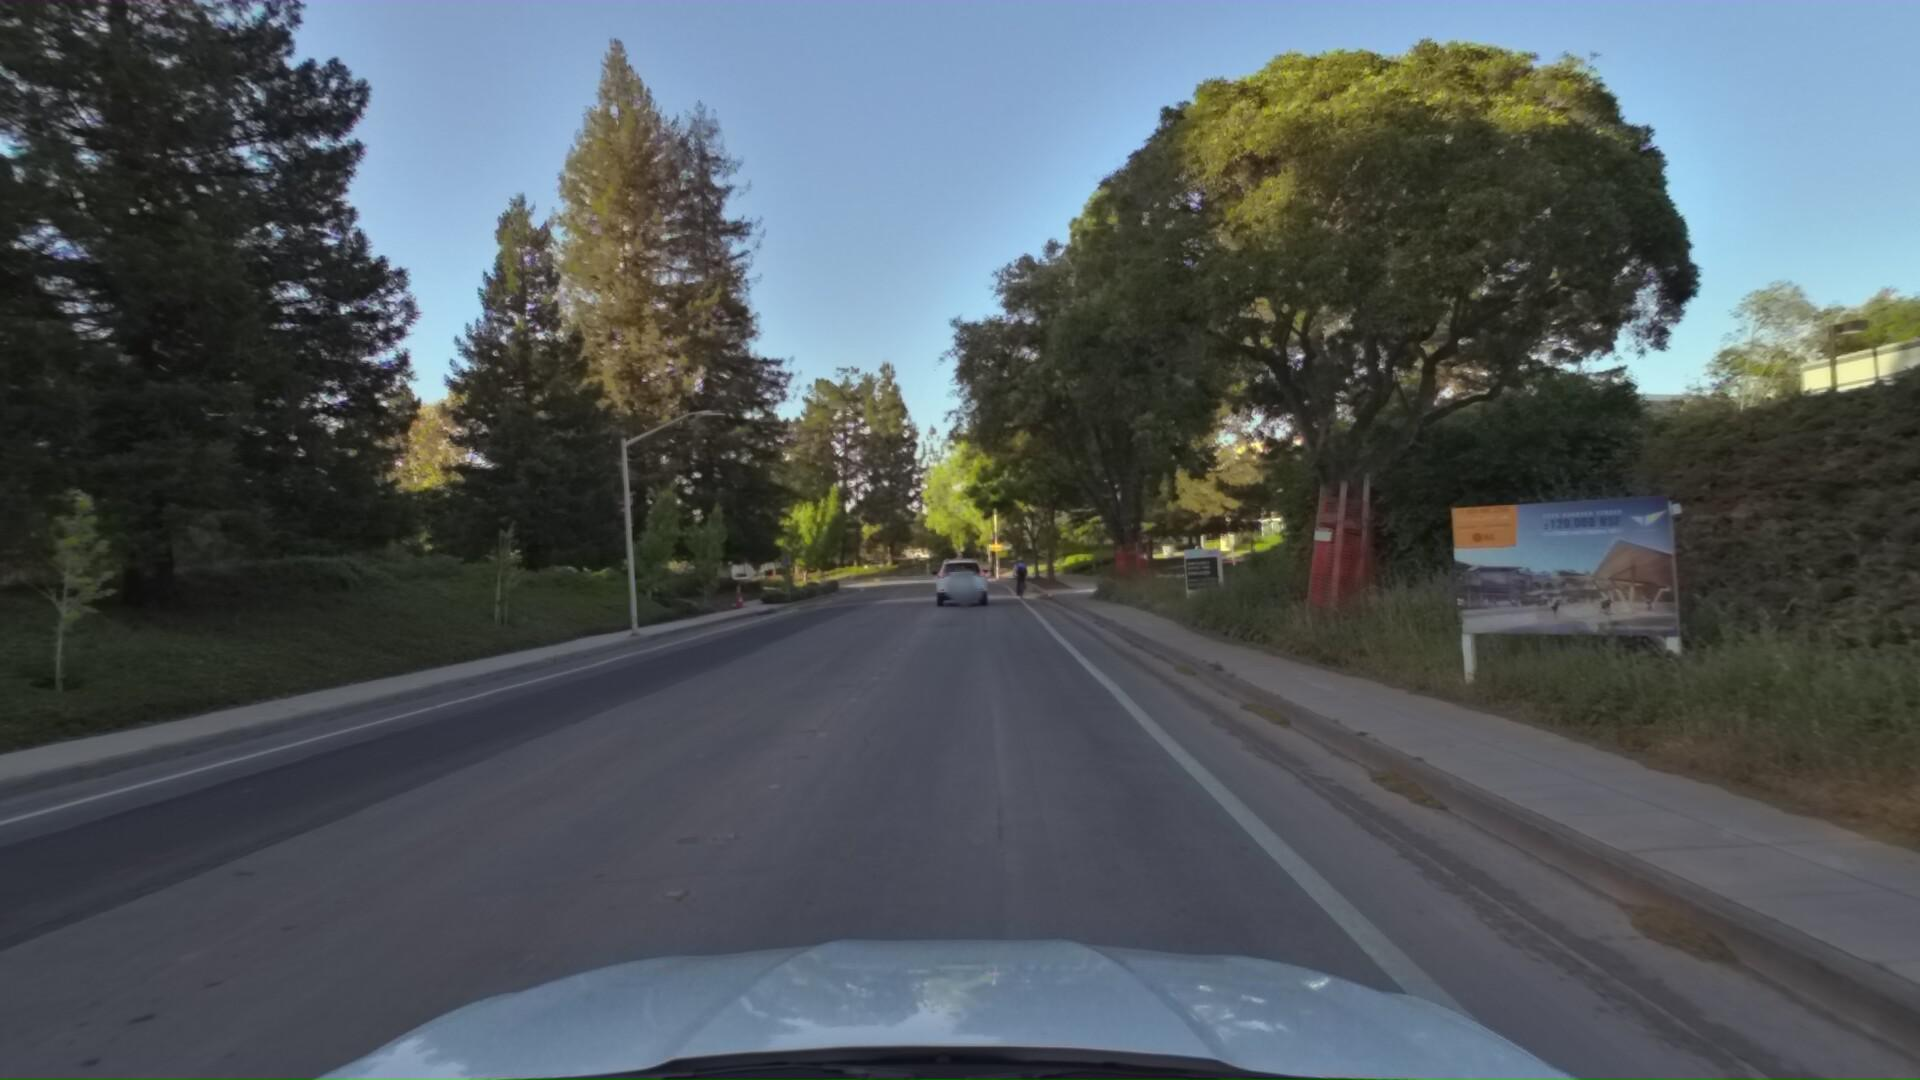bicycle: (1000, 554, 1033, 601)
car: (928, 556, 992, 612)
